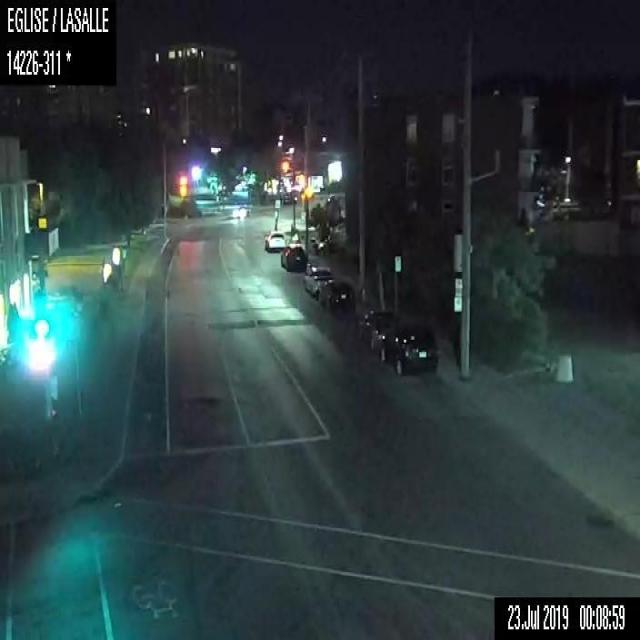vehicle: (378, 323, 436, 375), (354, 304, 400, 349), (317, 279, 355, 316), (302, 264, 331, 295), (279, 243, 307, 270), (263, 229, 284, 250), (231, 206, 247, 218)
